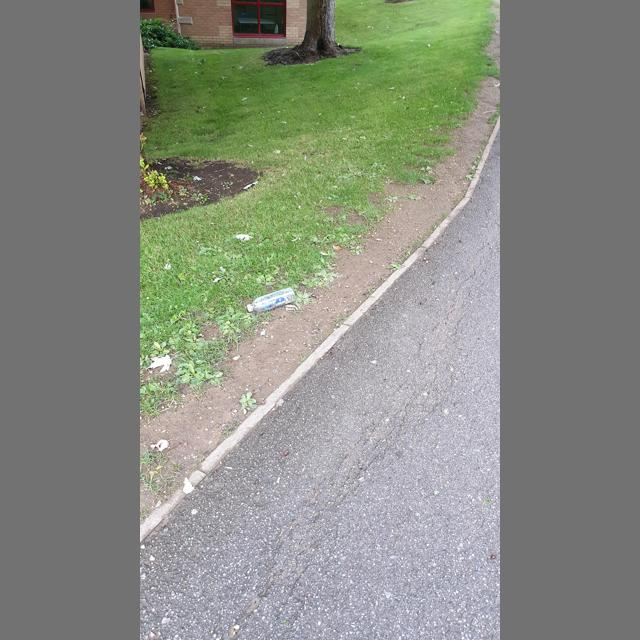litter: (247, 287, 295, 312), (247, 304, 252, 312), (262, 322, 269, 324)
